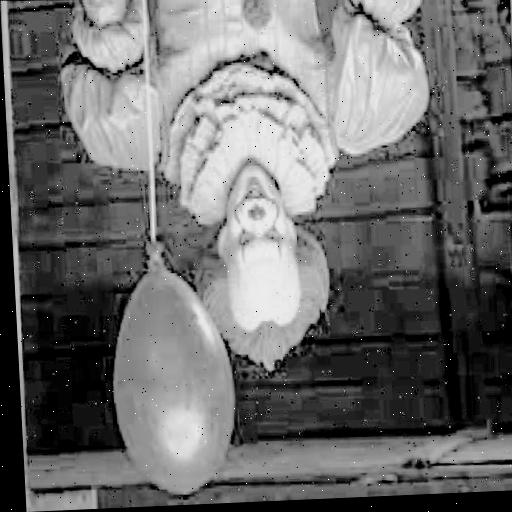balloon: (111, 261, 238, 498)
